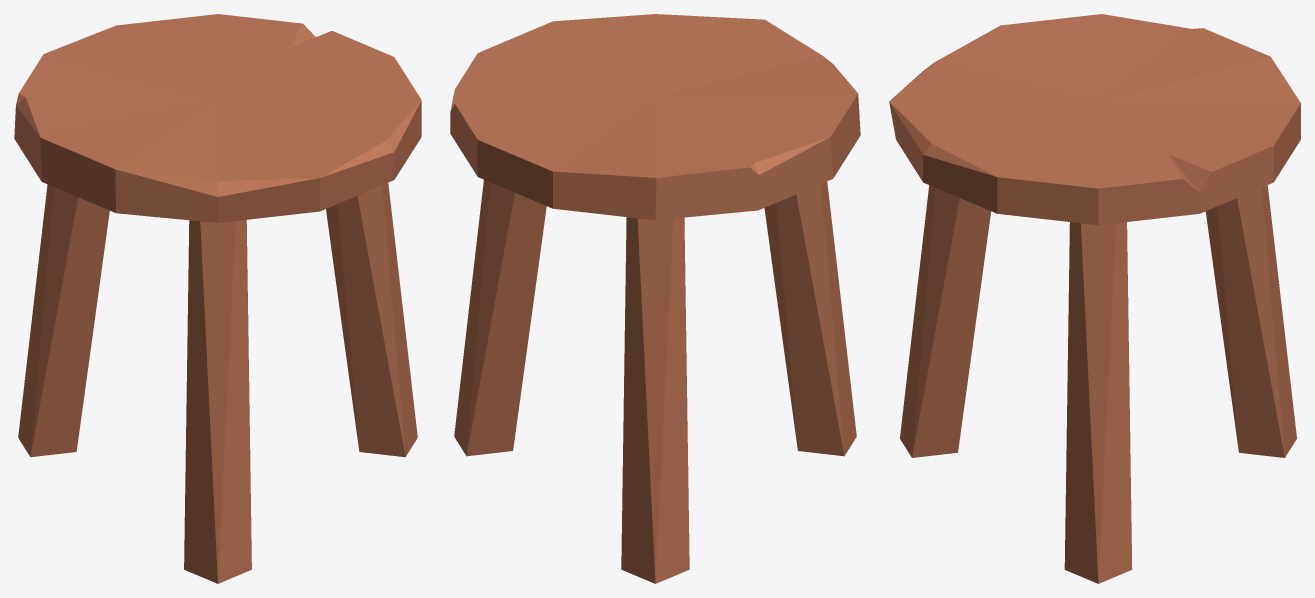
The model's file is Stool.fbx.
The picture shows the model from 3 angles, left to right: view 1: azimuth 30°, elevation 25°; view 2: azimuth 150°, elevation 25°; view 3: azimuth 270°, elevation 25°; orthographic projection.
Parts seen in each view (by area): view 1: Stool; view 2: Stool; view 3: Stool.
Boxes of the visible parts, box(x1,y1,x2,y2) form: Stool: box(14, 14, 421, 583); Stool: box(450, 14, 860, 583); Stool: box(889, 14, 1300, 583).
Size of the model in its own units: 0.5665 by 0.5616 by 0.5403.
